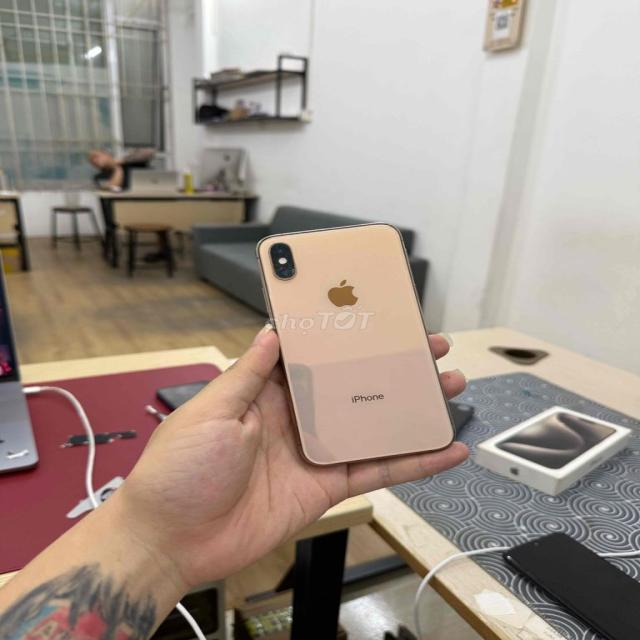gen_x_xs: (254, 222, 457, 469)
